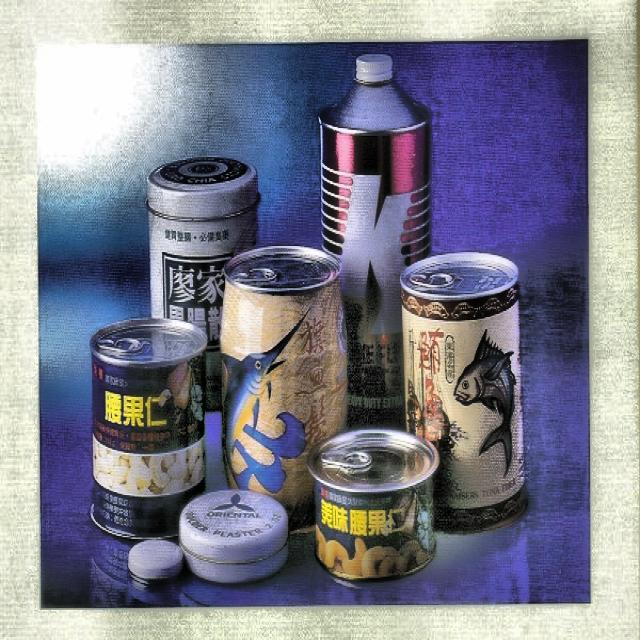can: (315, 43, 433, 437), (215, 234, 353, 546), (395, 237, 532, 536), (144, 154, 264, 426), (86, 310, 212, 546), (309, 421, 442, 589)
